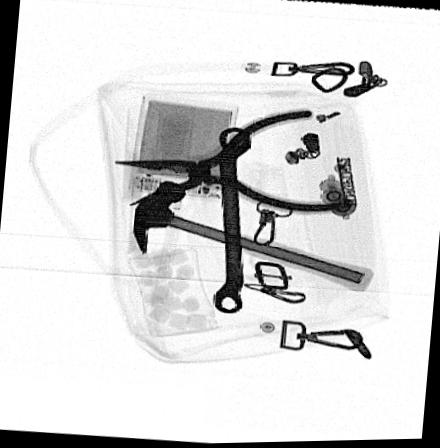Hammer: (130, 181, 373, 292)
Pliers: (110, 109, 353, 215)
Powerbank: (126, 93, 238, 204)
Wrench: (210, 127, 250, 314)
